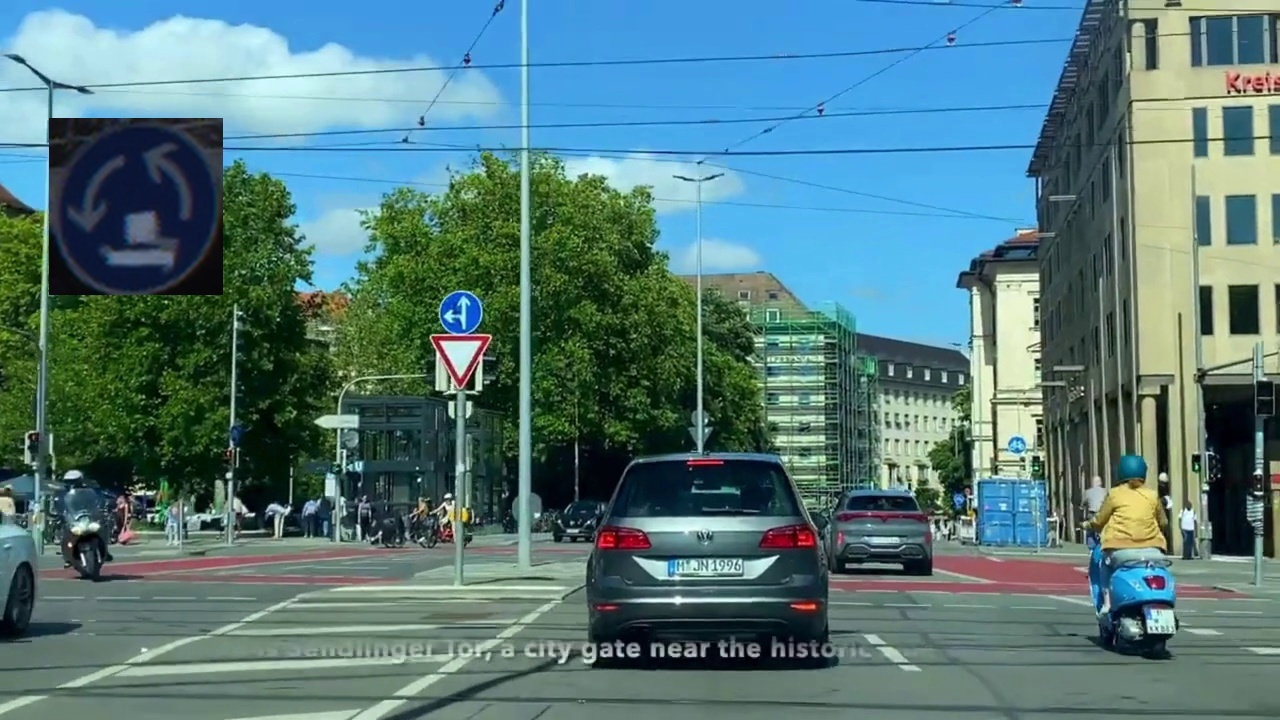Roundabout: (49, 118, 223, 295)
